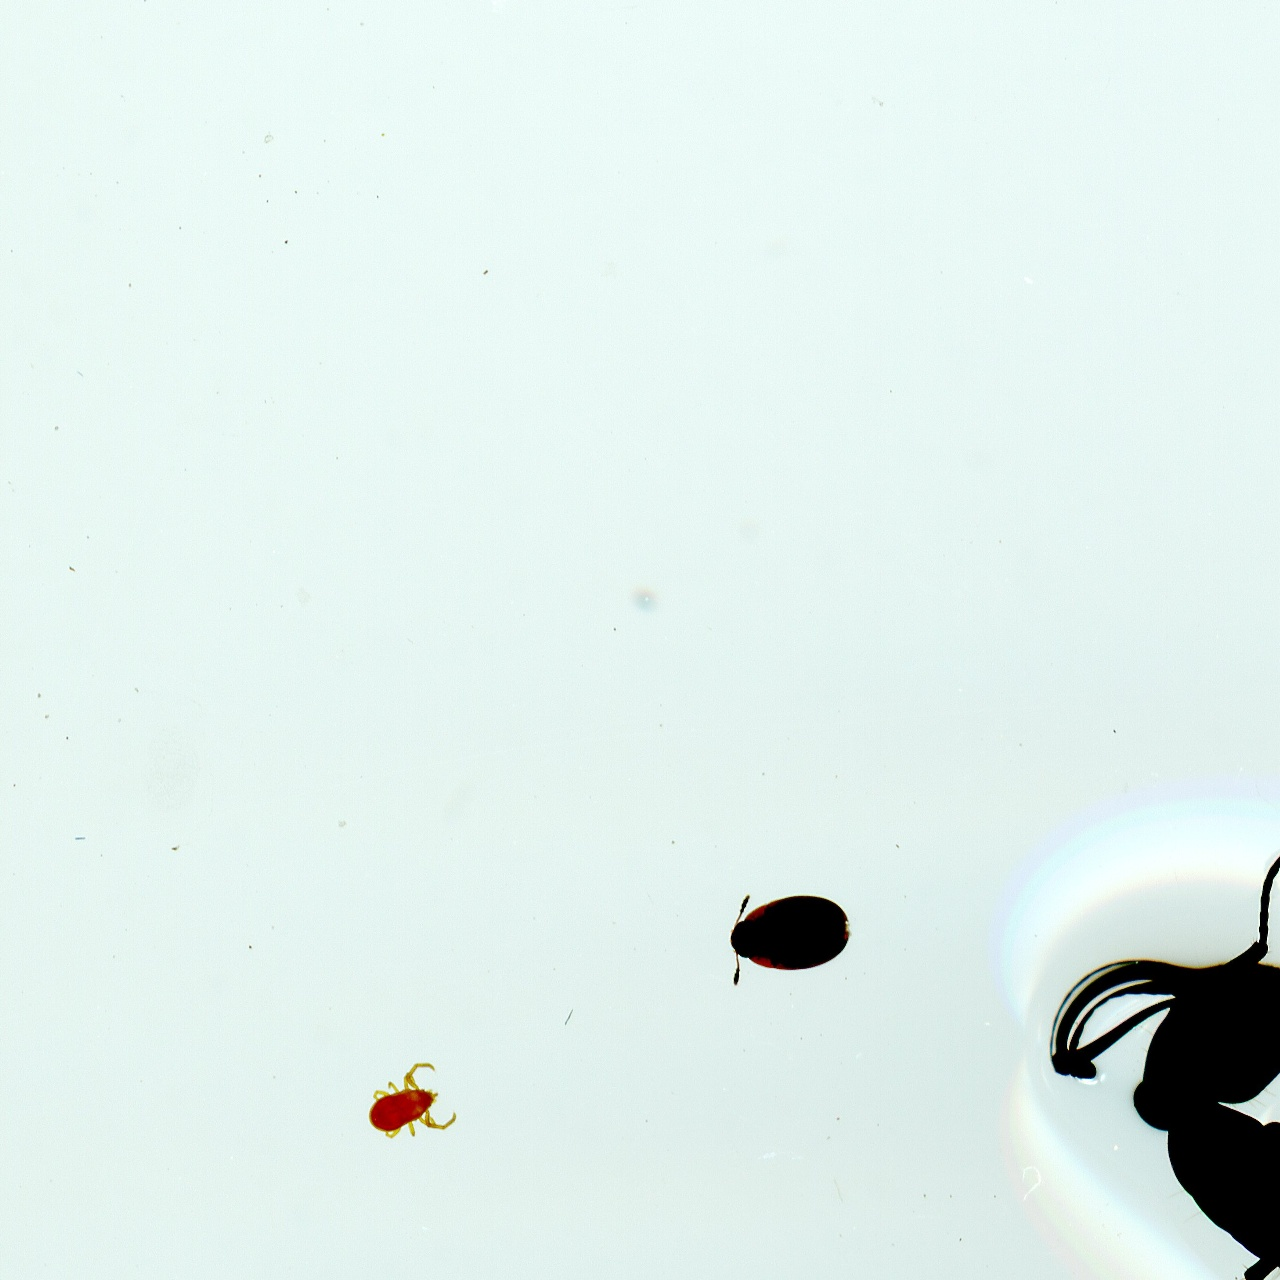arthropod: (982, 783, 1280, 1280), (726, 874, 862, 990), (348, 1048, 472, 1167)
